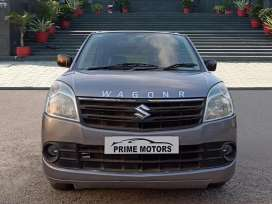license_plate: (104, 136, 178, 153)
